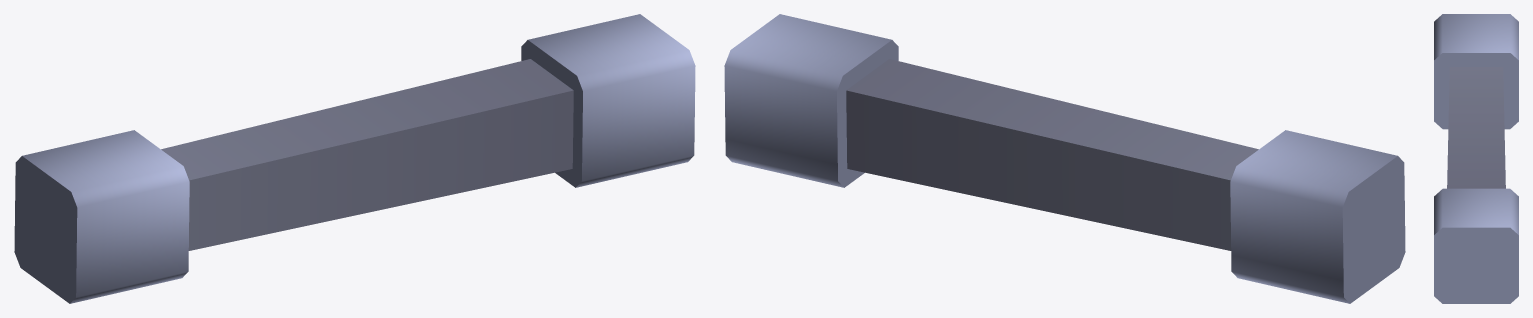
The model's file is column.002_lev5.glb.
The picture shows the model from 3 angles, left to right: view 1: azimuth 30°, elevation 25°; view 2: azimuth 150°, elevation 25°; view 3: azimuth 270°, elevation 25°; orthographic projection. The views are drawn at different scales.
Visible parts, largest first — view 1: column.002_lev5; view 2: column.002_lev5; view 3: column.002_lev5.
Boxes of the visible parts, x1,y1,x2,y2 form: column.002_lev5: [14, 14, 695, 303]; column.002_lev5: [724, 14, 1405, 303]; column.002_lev5: [1434, 14, 1518, 303].
Bounding box in the file's own units: 10 × 1.86 × 1.72.
Materials: 1 (1 with a texture image).
